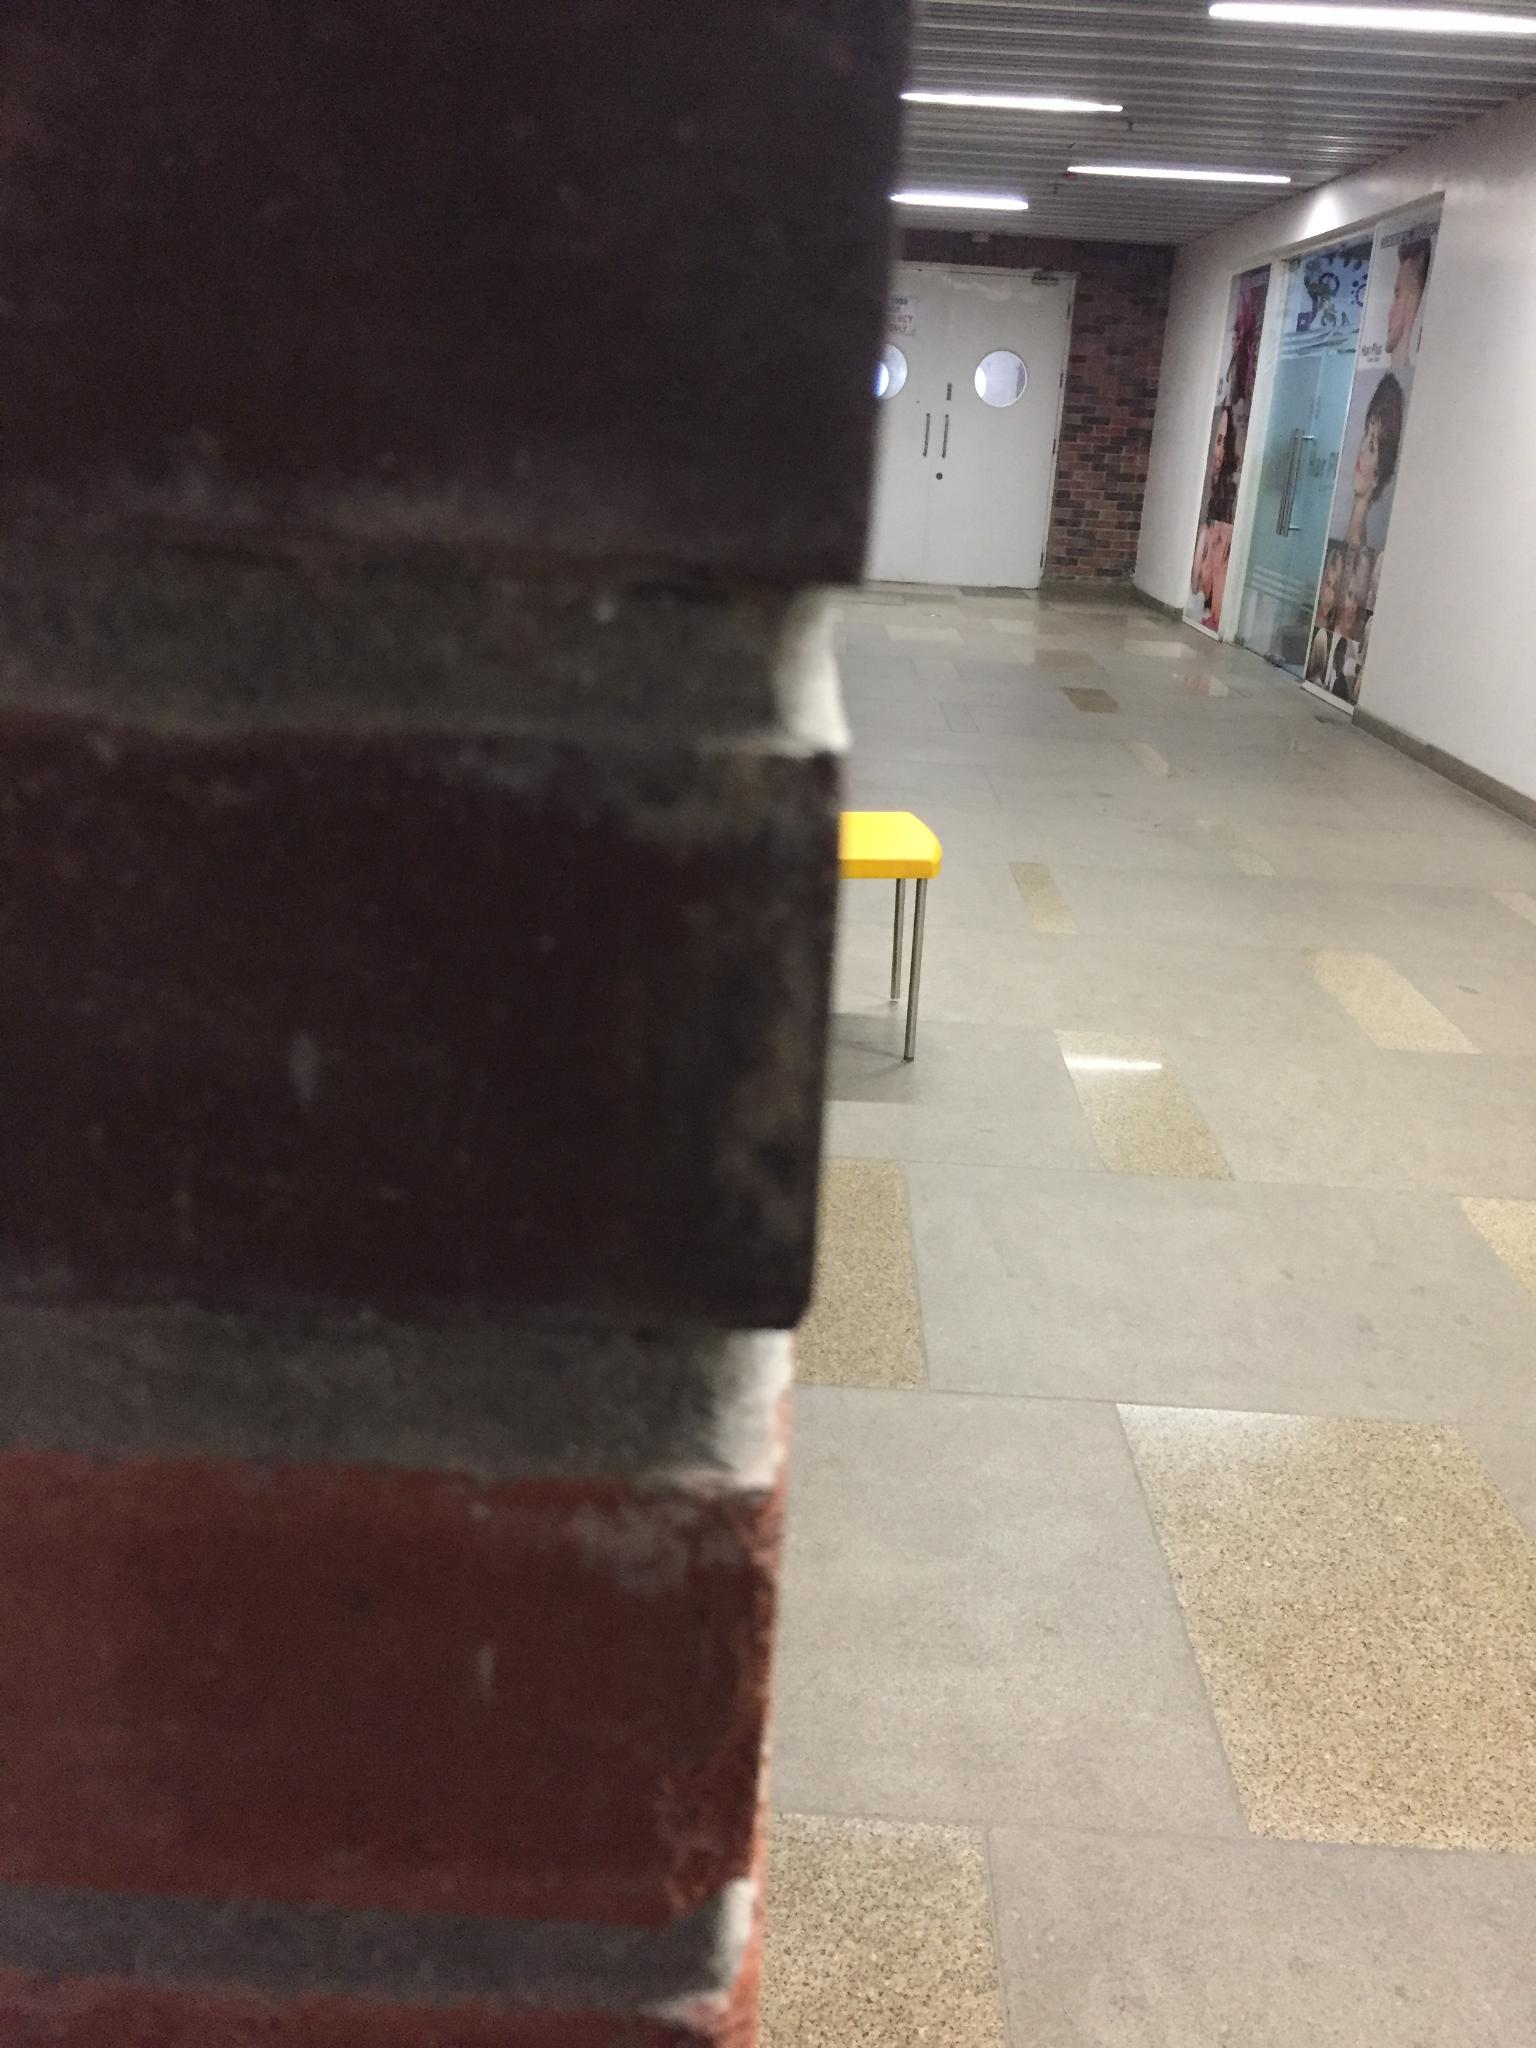chair: (837, 808, 942, 1059)
